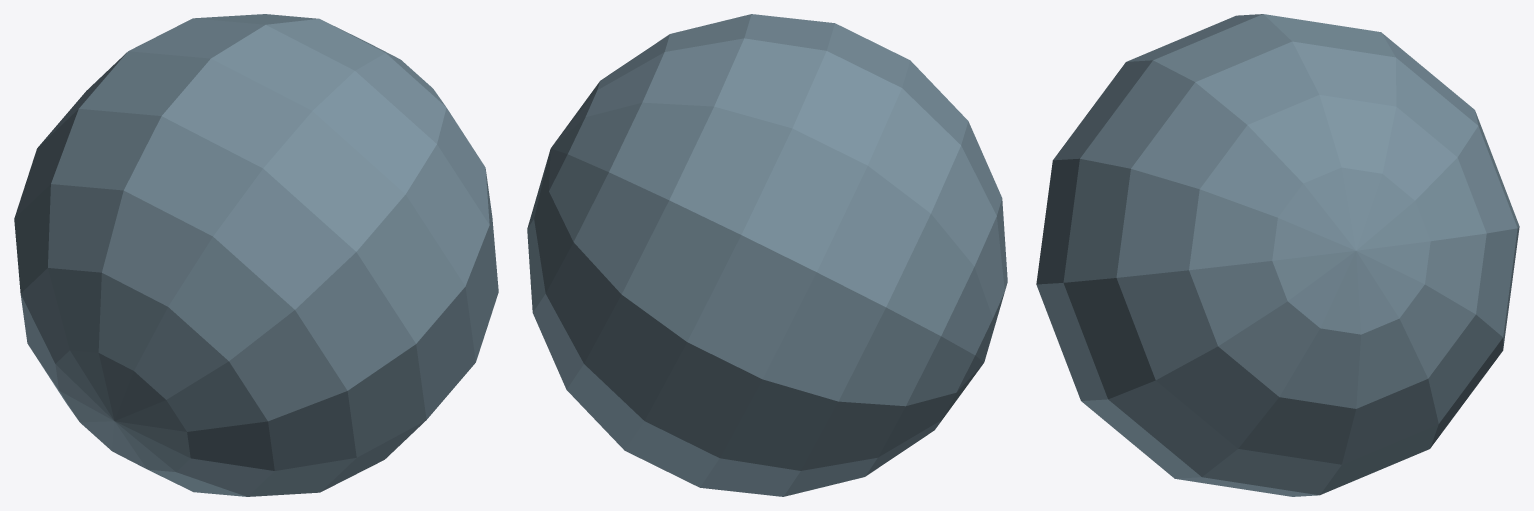
The model's file is astronaut_spawn_group1585682906_lev4.glb.
3 renders of one model, left to right at view 1: azimuth 30°, elevation 25°; view 2: azimuth 150°, elevation 25°; view 3: azimuth 270°, elevation 25°, orthographic.
Visible parts, largest first — view 1: astronaut_spawn_group1585682906_lev4; view 2: astronaut_spawn_group1585682906_lev4; view 3: astronaut_spawn_group1585682906_lev4.
Boxes of the visible parts, bbox=[...] form: astronaut_spawn_group1585682906_lev4: bbox=[14, 14, 498, 496]; astronaut_spawn_group1585682906_lev4: bbox=[527, 14, 1007, 496]; astronaut_spawn_group1585682906_lev4: bbox=[1036, 14, 1519, 496].
Size of the model in its own units: 0.0325 by 0.0329 by 0.0325.
